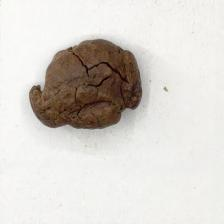NG: (28, 38, 142, 128)
